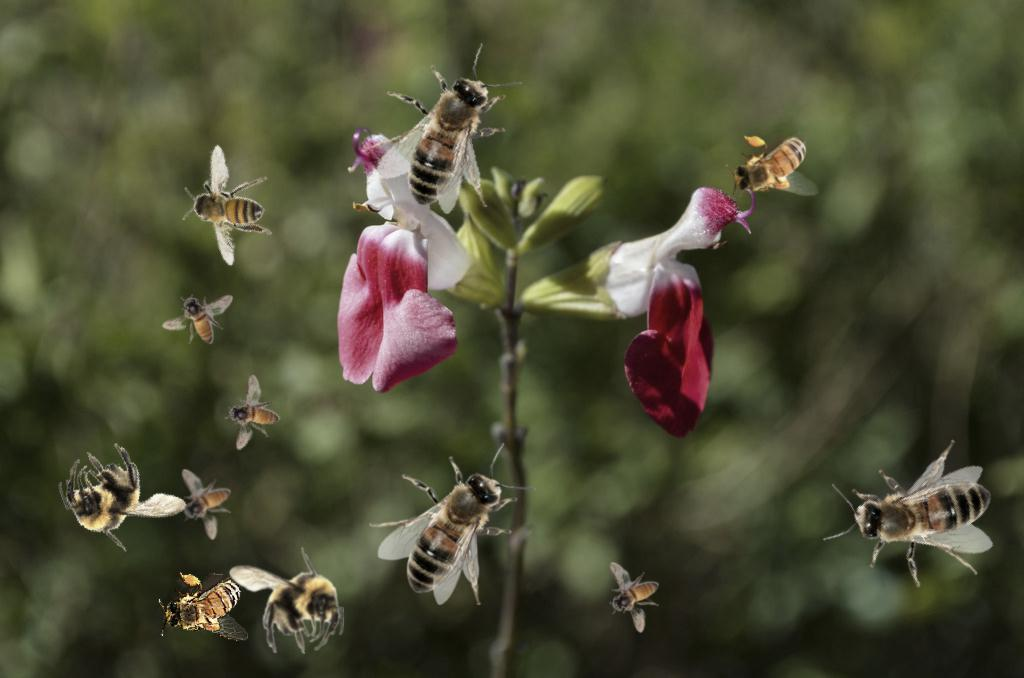Bee: (800, 400, 1024, 634), (349, 37, 542, 227), (369, 443, 536, 605), (50, 426, 195, 567), (158, 131, 297, 275), (229, 547, 344, 654), (154, 567, 256, 646), (211, 373, 293, 460), (726, 132, 819, 200), (609, 562, 659, 633), (162, 294, 233, 344), (181, 469, 231, 540)
